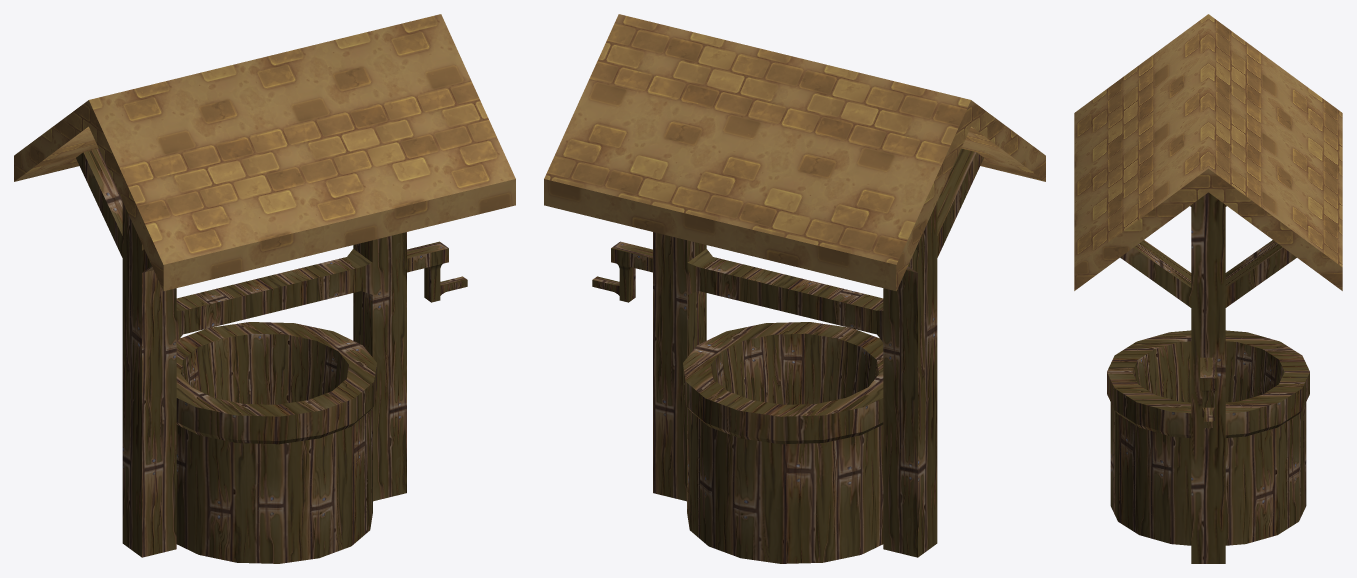
The model's file is well.fbx.
The picture shows the model from 3 angles, left to right: view 1: azimuth 30°, elevation 25°; view 2: azimuth 150°, elevation 25°; view 3: azimuth 270°, elevation 25°; orthographic projection. The views are drawn at different scales.
Parts seen in each view (by area): view 1: well_roof, well_base, well_support; view 2: well_roof, well_base, well_support; view 3: well_roof, well_base, well_support.
Boxes of the visible parts, x1=… form: well_roof: x1=14, y1=14, x2=515, y2=291; well_base: x1=176, y1=322, x2=376, y2=563; well_support: x1=76, y1=148, x2=467, y2=557; well_roof: x1=544, y1=14, x2=1045, y2=291; well_base: x1=683, y1=322, x2=883, y2=563; well_support: x1=592, y1=148, x2=983, y2=557; well_roof: x1=1074, y1=14, x2=1342, y2=290; well_base: x1=1107, y1=330, x2=1309, y2=545; well_support: x1=1120, y1=192, x2=1296, y2=563.
Bounding box in the file's own units: 260 × 304 × 179.
